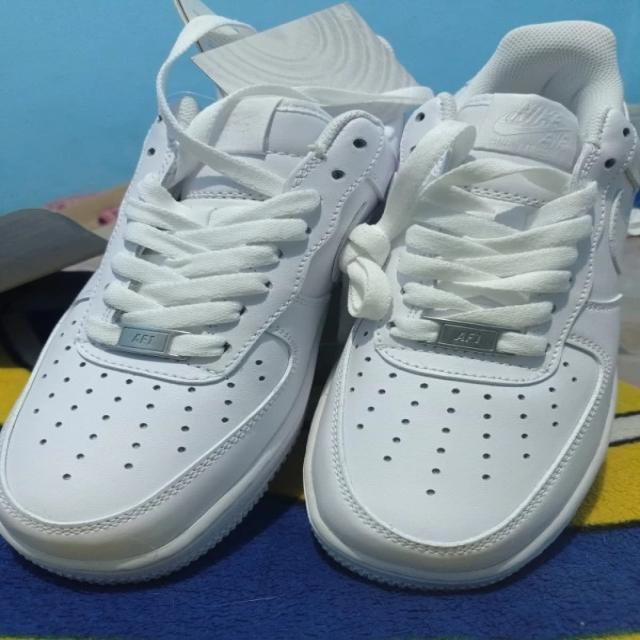nike original air force: (3, 0, 402, 588), (293, 18, 640, 598)
